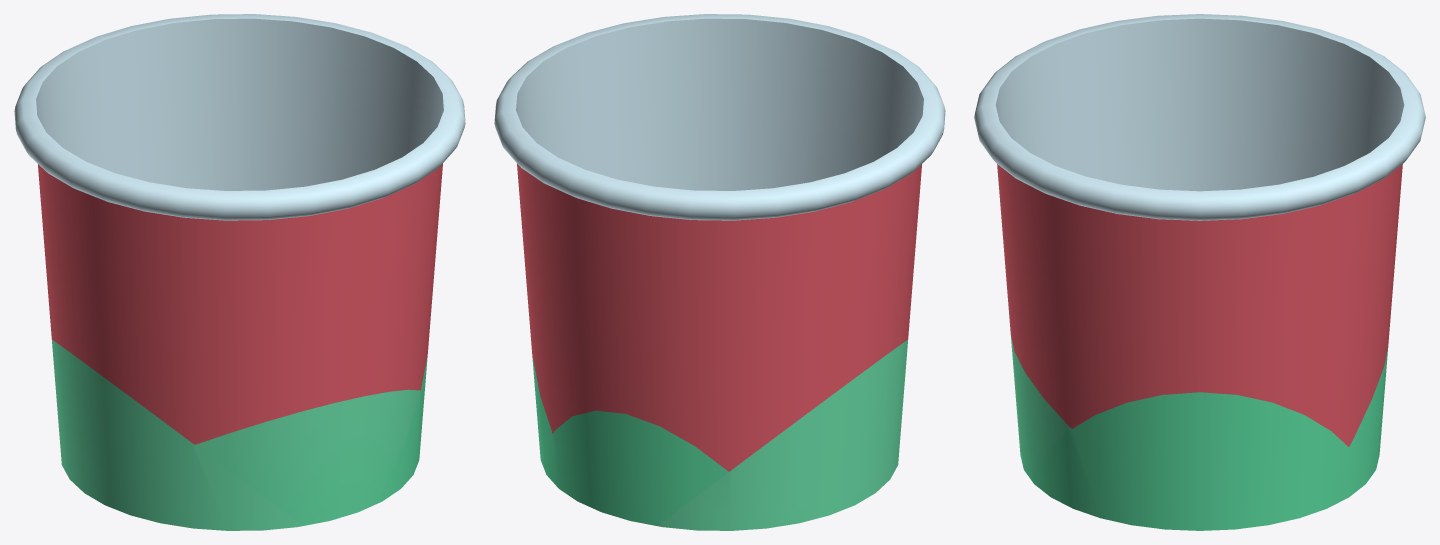
The model's file is Cup Ice Cream I.fbx.
The picture shows the model from 3 angles, left to right: view 1: azimuth 30°, elevation 25°; view 2: azimuth 150°, elevation 25°; view 3: azimuth 270°, elevation 25°; orthographic projection.
Parts seen in each view (by area): view 1: Cup Ice Cream I; view 2: Cup Ice Cream I; view 3: Cup Ice Cream I.
Part boxes in pixels (left/top/right/bottom): Cup Ice Cream I: left=14, top=14, right=465, bottom=530; Cup Ice Cream I: left=494, top=14, right=945, bottom=530; Cup Ice Cream I: left=974, top=14, right=1425, bottom=530.
Bounding box in the file's own units: 0.7274 × 0.622 × 0.7274.
